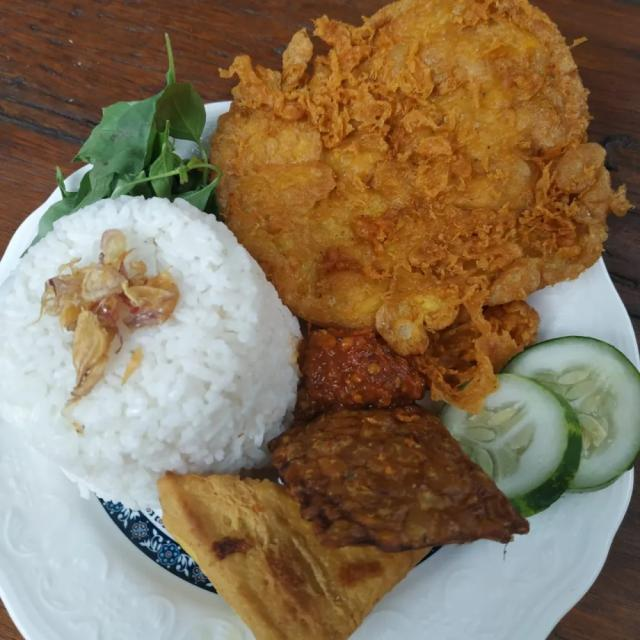ayam_goreng: (212, 0, 632, 314)
nasi_putih: (0, 192, 274, 475)
